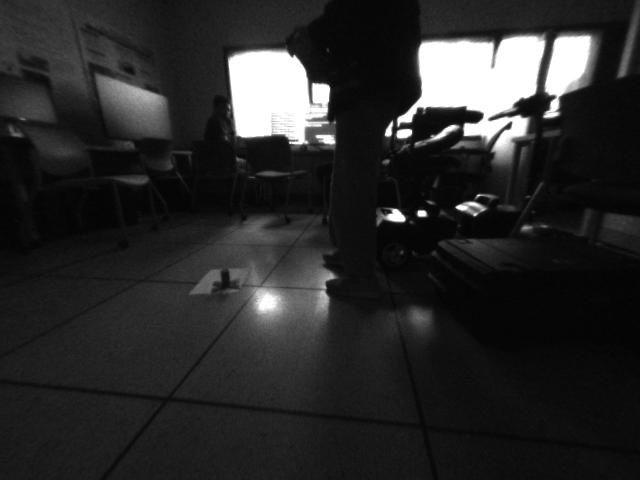x: (205, 264, 244, 293)
